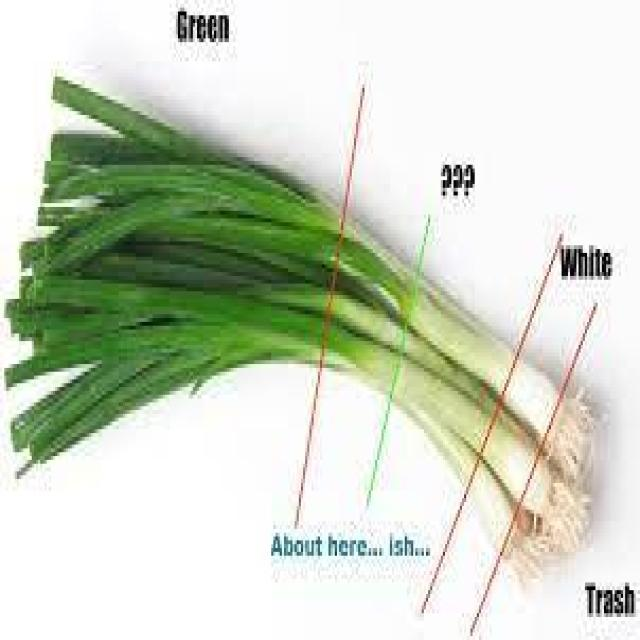Onion: (3, 73, 597, 582)
